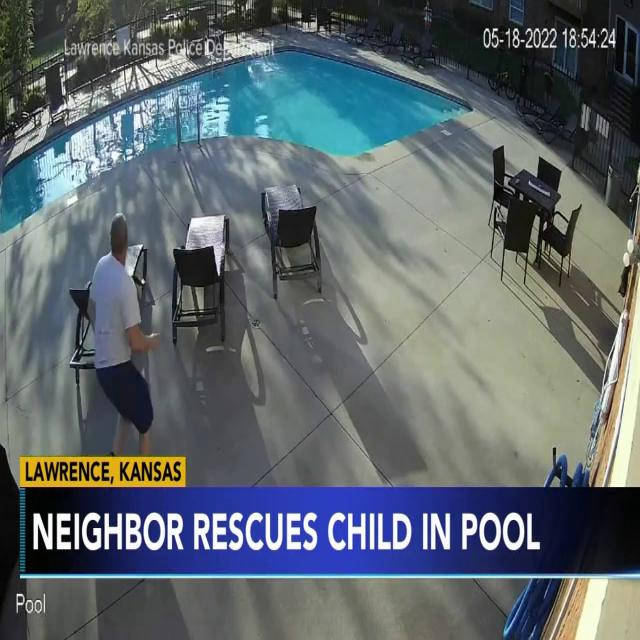adult: (88, 215, 169, 455)
